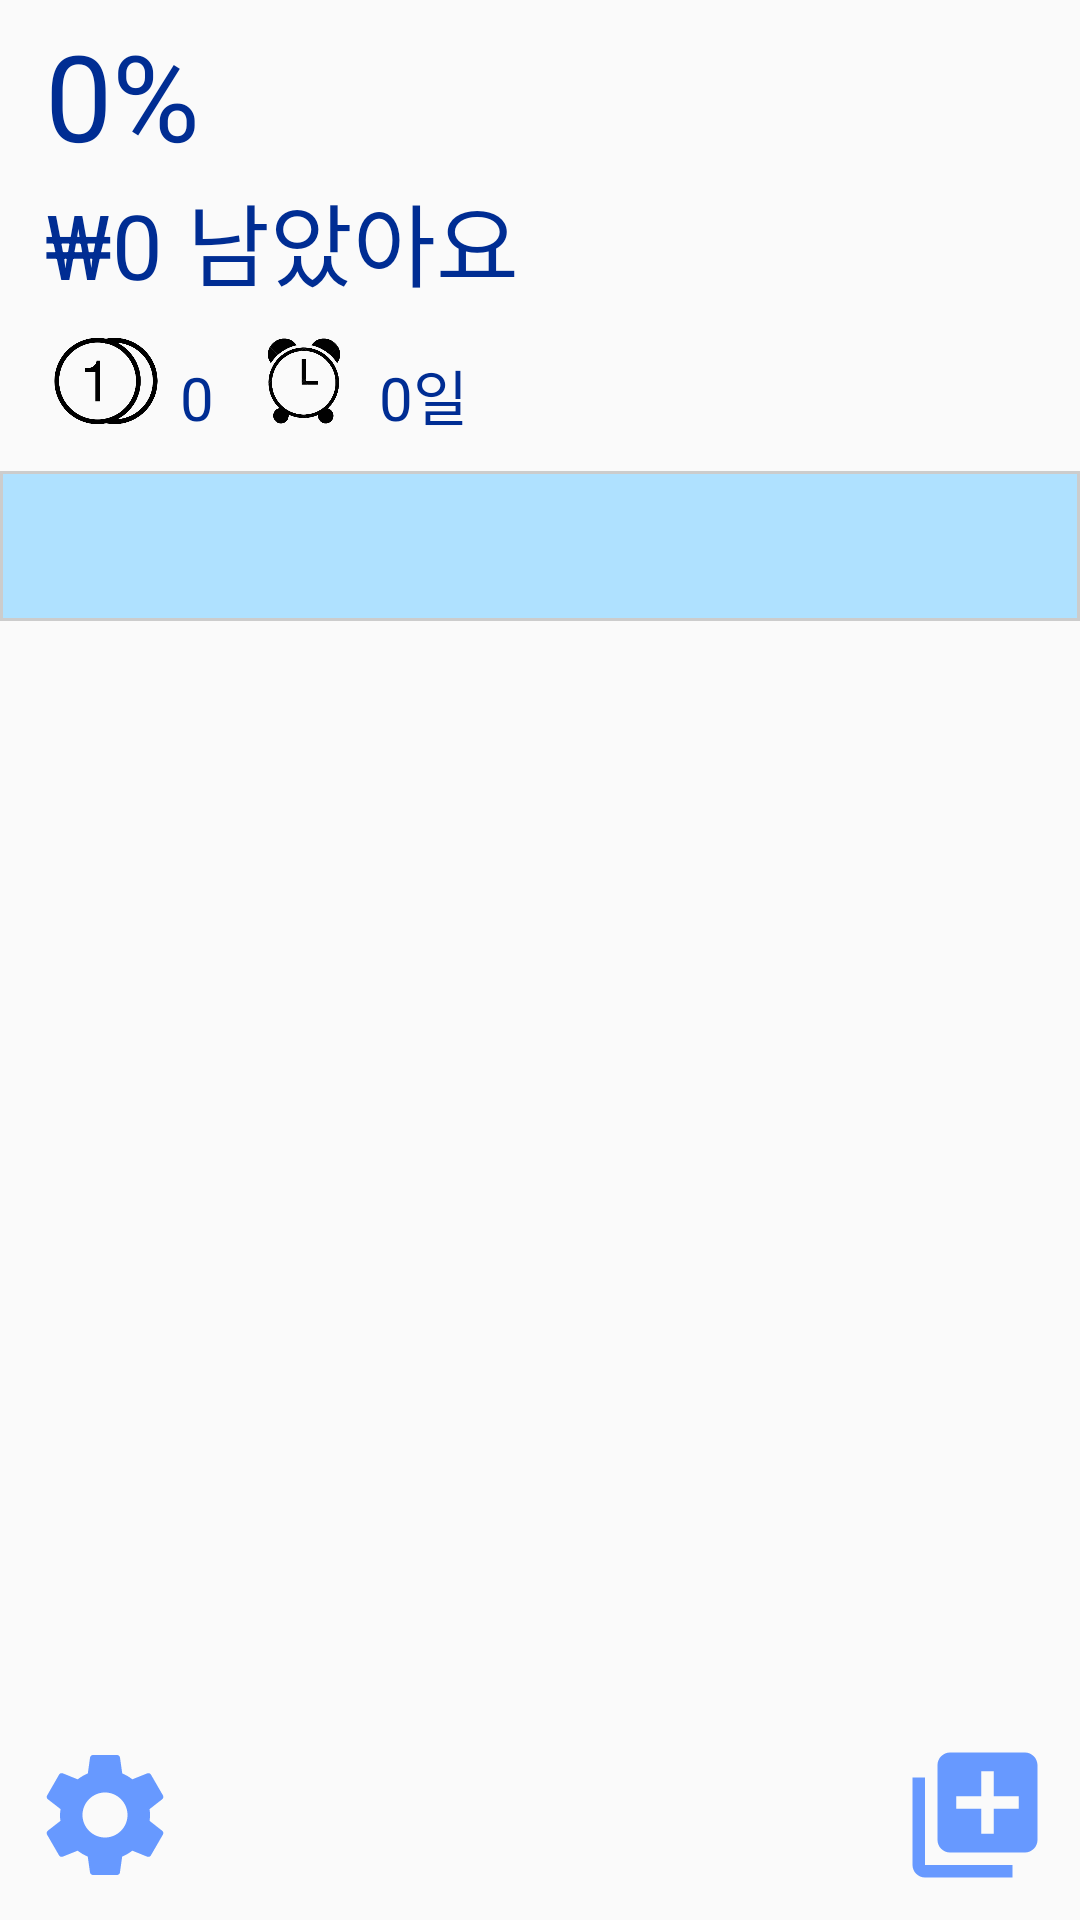

Named icons in this screenshot (1080w x 1920h) and their centers, point (x, y):
add square: point (975, 1815)
clock: point (304, 381)
settings: point (105, 1815)
